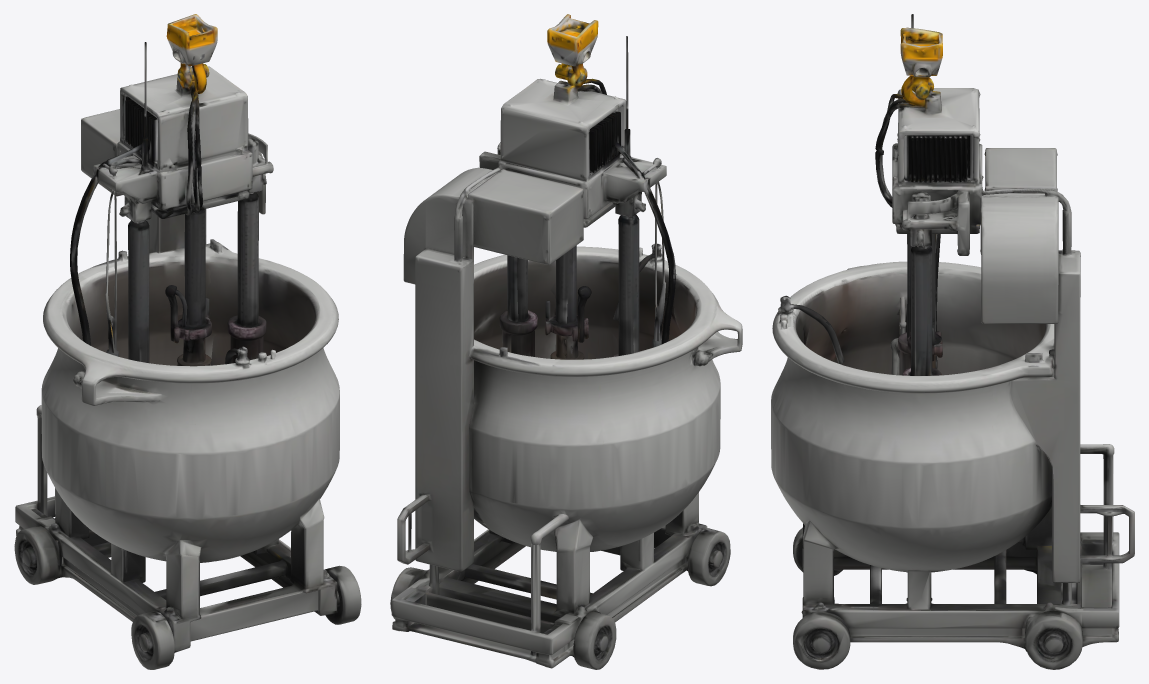
Rendered from jinglian_opt.glb.
3 renders of one model, left to right at view 1: azimuth 30°, elevation 25°; view 2: azimuth 150°, elevation 25°; view 3: azimuth 270°, elevation 25°, orthographic.
Parts seen in each view (by area): view 1: node_0; view 2: node_0; view 3: node_0.
Part boxes in pixels (box(x1,y1,x2,y2)): node_0: box(14, 14, 361, 669); node_0: box(390, 14, 742, 669); node_0: box(771, 14, 1134, 669).
Bounding box in the file's own units: 0.4979 × 1.04 × 0.5861.
1 material, 1 textured.
